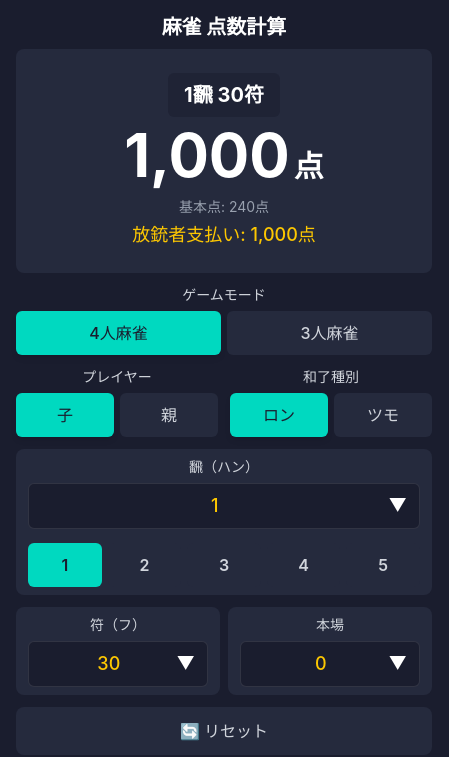
Scenario: 満貫以上の点数計算
5飜を選択（満貫）
Step 1. Click the button "5" → coordinates (383, 565), box [346, 543, 420, 587]
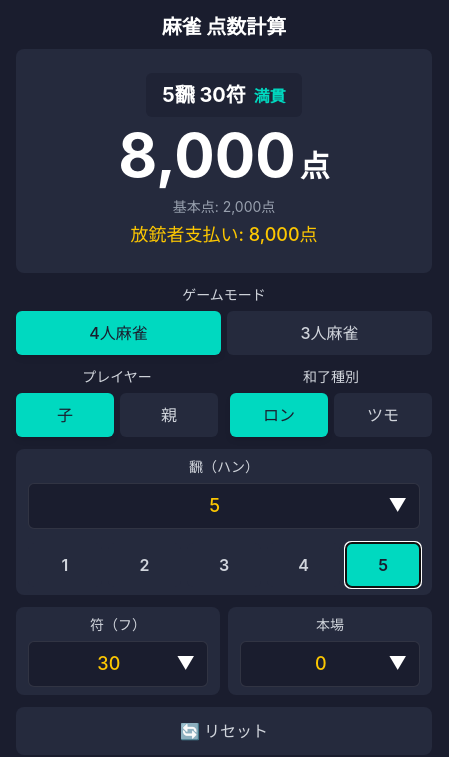
Result: the text "放銃者支払い: 8,000点" is shown at [130, 224, 318, 245]
Result: the text "満貫" is shown at [254, 86, 286, 106]
